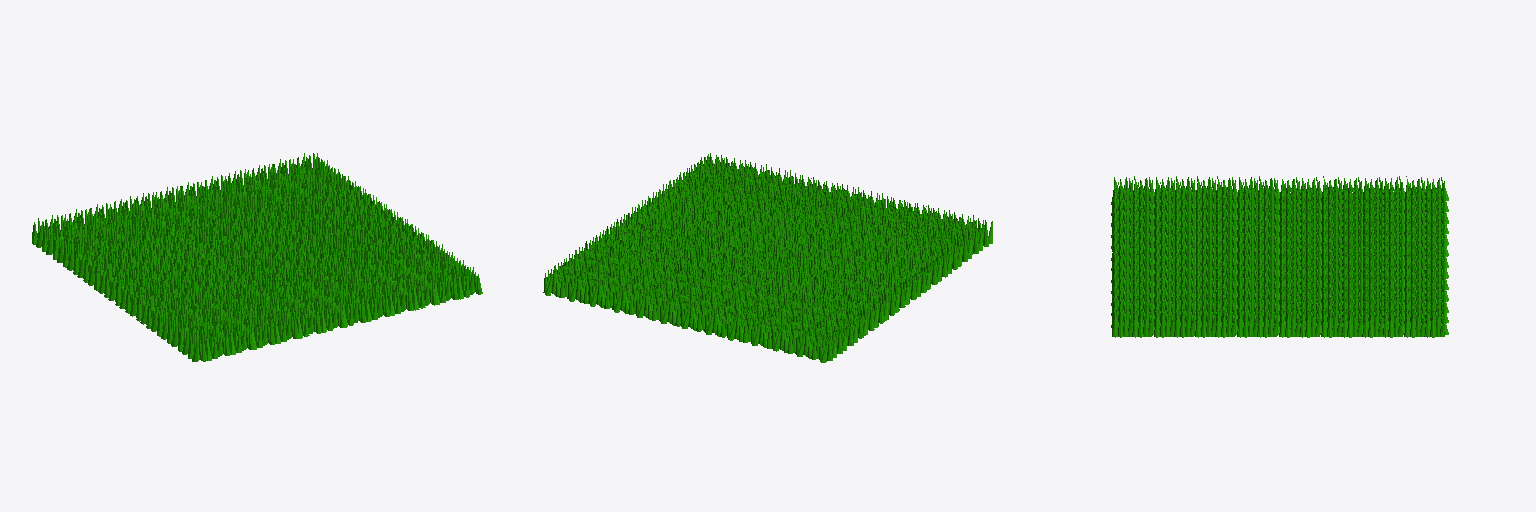
Rendered from grasssquare.obj.
The picture shows the model from 3 angles: view 1: azimuth 30°, elevation 25°; view 2: azimuth 150°, elevation 25°; view 3: azimuth 270°, elevation 25°; orthographic projection.
Parts seen in each view (by area): view 1: Grass_Blade_Cone; view 2: Grass_Blade_Cone; view 3: Grass_Blade_Cone.
Part boxes in pixels (x1,y1,x2,y2): Grass_Blade_Cone: (32, 153, 482, 361); Grass_Blade_Cone: (543, 153, 992, 362); Grass_Blade_Cone: (1111, 176, 1448, 337).
Size of the model in its own units: 20.04 by 1.51 by 20.35.